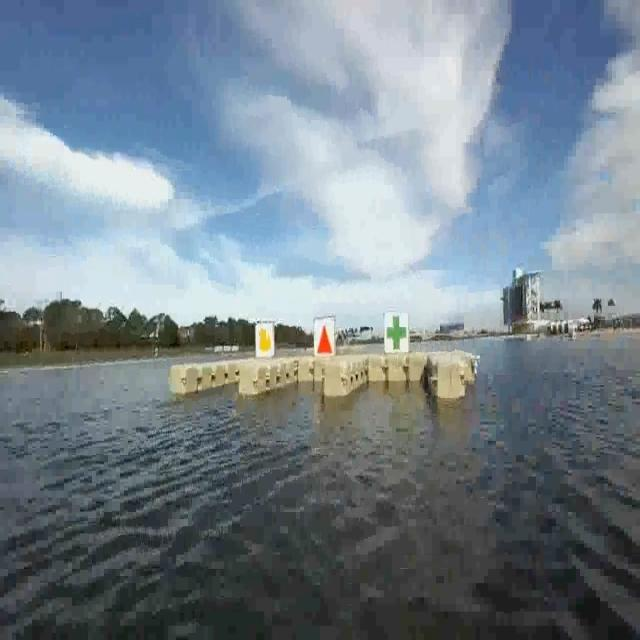blue-cross: (384, 311, 411, 354)
red-dot: (312, 320, 335, 356)
yellow-duck: (256, 325, 275, 358)
